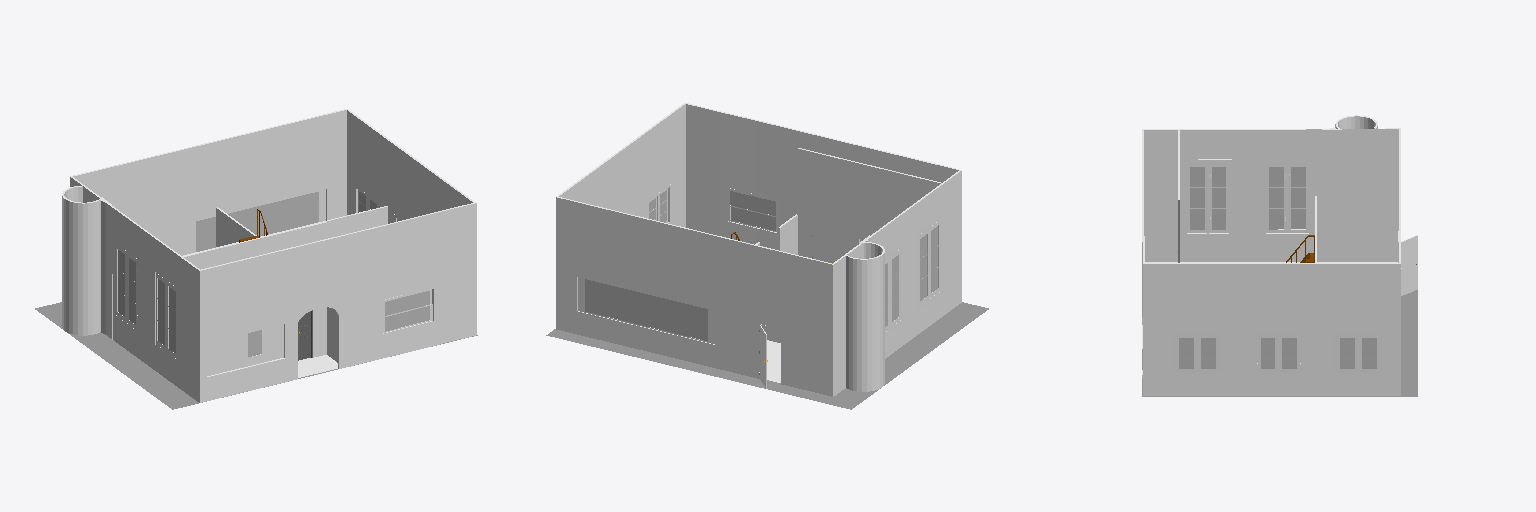
The model's file is DERV_0_U1_Estructura_1.obj.
3 views of the same model, side by side, from view 1: azimuth 30°, elevation 25°; view 2: azimuth 150°, elevation 25°; view 3: azimuth 270°, elevation 25° (orthographic).
Visible parts, largest first — view 1: wall_14_83, wall_3_16, wall_1_5, wall_2_10, wall_4_23, wall_16_97, wall_15_91, wall_8_46, ground_1, sweethome3d_window_pane_190, wall_14_82, wall_12_71 (+8 smaller); view 2: wall_3_17, wall_1_5, wall_8_47, wall_2_10, wall_14_82, ground_1, wall_4_23, wall_16_96, sweethome3d_window_pane_190, wall_15_90, Fenetre_1_189, sweethome3d_window_pane_294 (+4 smaller); view 3: wall_2_11, wall_1_4, wall_5_28, ground_1, CageIn_214, sweethome3d_opening_on_hinge_1_door_110, sweethome3d_window_pane_on_hinge_1_222, sweethome3d_window_pane_on_hinge_1_202, sweethome3d_window_pane_on_hinge_2_210, CageIn_194, sweethome3d_window_pane_on_hinge_2_230.
Boxes of the visible parts, x1=… form: wall_14_83: x1=200, y1=221, x2=402, y2=402; wall_3_16: x1=73, y1=110, x2=346, y2=255; wall_1_5: x1=70, y1=177, x2=199, y2=402; wall_2_10: x1=347, y1=110, x2=472, y2=223; wall_4_23: x1=62, y1=196, x2=100, y2=335; wall_16_97: x1=440, y1=203, x2=476, y2=343; wall_15_91: x1=403, y1=212, x2=439, y2=349; wall_8_46: x1=184, y1=222, x2=326, y2=365; ground_1: x1=35, y1=302, x2=477, y2=409; sweethome3d_window_pane_190: x1=196, y1=192, x2=318, y2=251; wall_14_82: x1=207, y1=333, x2=247, y2=375; wall_12_71: x1=327, y1=207, x2=387, y2=238; wall_3_17: x1=556, y1=197, x2=830, y2=395; wall_1_5: x1=832, y1=171, x2=961, y2=396; wall_8_47: x1=796, y1=148, x2=940, y2=259; wall_2_10: x1=559, y1=104, x2=685, y2=227; wall_14_82: x1=758, y1=121, x2=958, y2=249; ground_1: x1=546, y1=302, x2=988, y2=409; wall_4_23: x1=846, y1=253, x2=884, y2=391; wall_16_96: x1=686, y1=104, x2=719, y2=235; sweethome3d_window_pane_190: x1=585, y1=279, x2=707, y2=340; wall_15_90: x1=720, y1=112, x2=757, y2=244; Fenetre_1_189: x1=578, y1=277, x2=714, y2=343; sweethome3d_window_pane_294: x1=730, y1=191, x2=775, y2=215; wall_2_11: x1=1143, y1=264, x2=1400, y2=395; wall_1_4: x1=1144, y1=129, x2=1398, y2=261; wall_5_28: x1=1322, y1=130, x2=1341, y2=261; ground_1: x1=1142, y1=290, x2=1417, y2=396; CageIn_214: x1=1184, y1=159, x2=1231, y2=238; sweethome3d_opening_on_hinge_1_door_110: x1=1401, y1=235, x2=1417, y2=295; sweethome3d_window_pane_on_hinge_1_222: x1=1190, y1=167, x2=1204, y2=229; sweethome3d_window_pane_on_hinge_1_202: x1=1269, y1=167, x2=1283, y2=229; sweethome3d_window_pane_on_hinge_2_210: x1=1291, y1=167, x2=1305, y2=228; CageIn_194: x1=1263, y1=159, x2=1310, y2=238; sweethome3d_window_pane_on_hinge_2_230: x1=1212, y1=167, x2=1225, y2=229.
Bounding box in the file's own units: 1208 × 500 × 948.